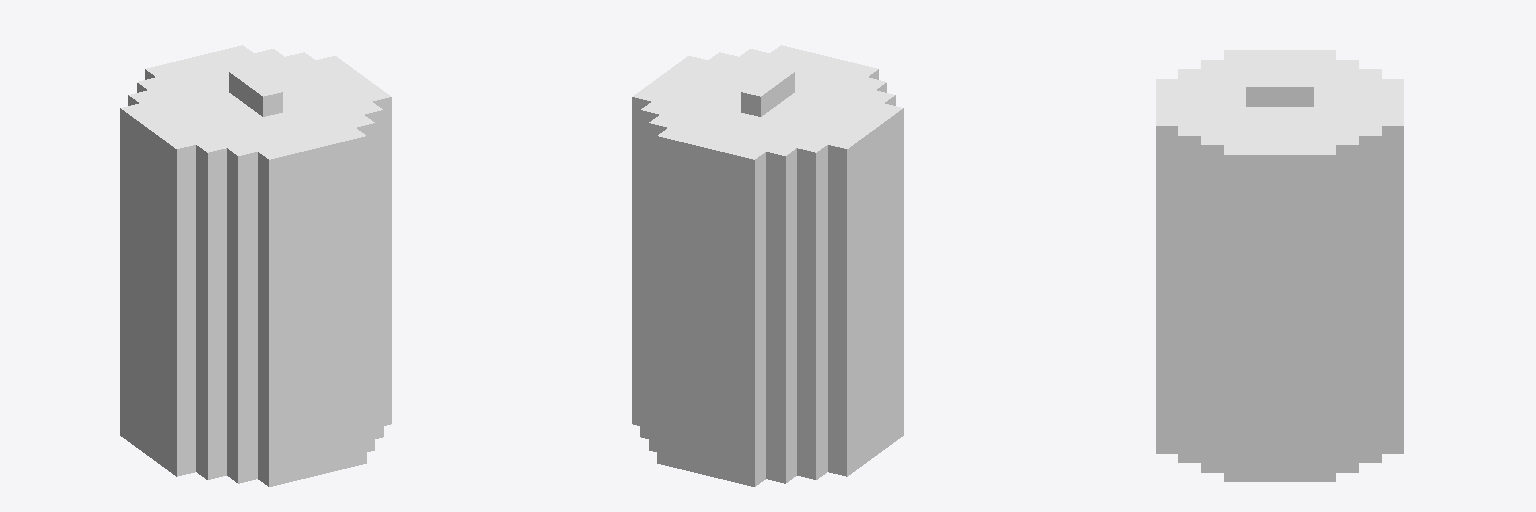
The model's file is garbage_can_closed.obj.
The picture shows the model from 3 angles: view 1: azimuth 30°, elevation 25°; view 2: azimuth 150°, elevation 25°; view 3: azimuth 270°, elevation 25°; orthographic projection.
Visible parts, largest first — view 1: object 1; view 2: object 1; view 3: object 1.
Part boxes in pixels (bbox=[...]): object 1: bbox=[120, 45, 391, 486]; object 1: bbox=[632, 45, 903, 486]; object 1: bbox=[1156, 50, 1403, 481].
Bounding box in the file's own units: 1.1 × 1.7 × 1.1.